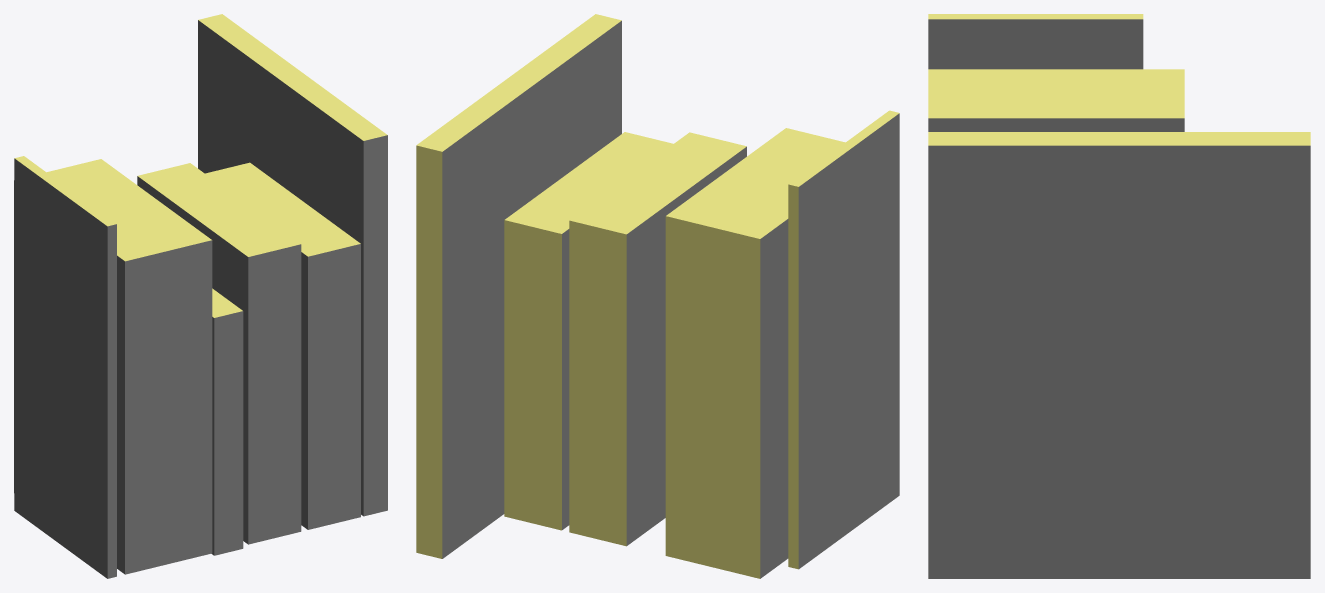
Rendered from Books.fbx.
3 views of the same model, side by side, from view 1: azimuth 30°, elevation 25°; view 2: azimuth 150°, elevation 25°; view 3: azimuth 270°, elevation 25° (orthographic). The views are drawn at different scales.
Visible parts, largest first — view 1: pCube6 (×2), pCube5 (×2), pCube1 (×2), pCube3 (×2), pCube2 (×2), pCube4 (×2); view 2: pCube1 (×2), pCube5 (×2), pCube6 (×2), pCube3 (×2), pCube2 (×2); view 3: pCube1 (×2), pCube5 (×2), pCube6 (×2).
Part boxes in pixels (x1,y1,x2,y2): pCube6 (×2): [14, 156, 116, 578]; pCube5 (×2): [14, 159, 212, 574]; pCube1 (×2): [198, 14, 387, 516]; pCube3 (×2): [137, 163, 301, 544]; pCube2 (×2): [205, 162, 360, 529]; pCube4 (×2): [211, 288, 243, 555]; pCube1 (×2): [416, 14, 621, 558]; pCube5 (×2): [665, 128, 845, 578]; pCube6 (×2): [788, 110, 899, 569]; pCube3 (×2): [569, 132, 746, 546]; pCube2 (×2): [504, 132, 673, 530]; pCube1 (×2): [928, 132, 1310, 578]; pCube5 (×2): [928, 69, 1184, 131]; pCube6 (×2): [928, 14, 1143, 69].
Bounding box in the file's own units: 0.2625 × 0.3404 × 0.2685.
